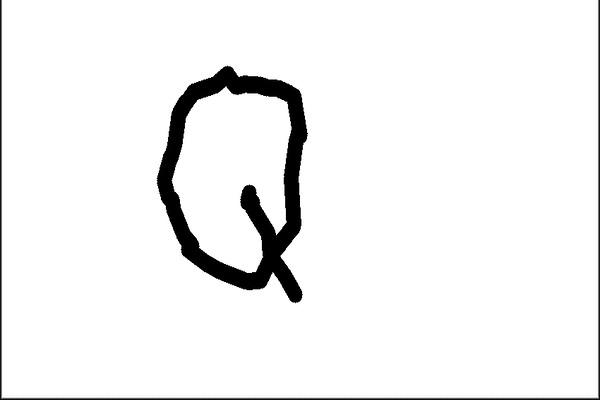Q: (143, 54, 321, 310)
